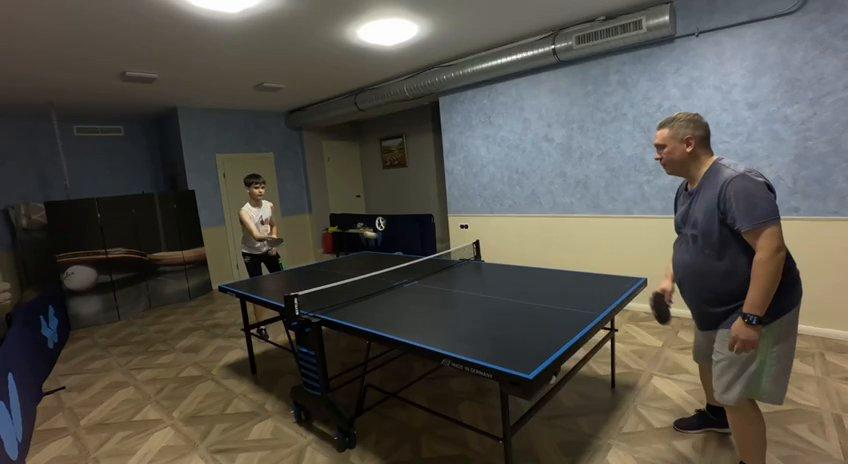Net: (280, 241, 481, 325)
Player1: (239, 173, 281, 276)
Player2: (652, 112, 802, 463)
Table: (220, 250, 640, 376)
